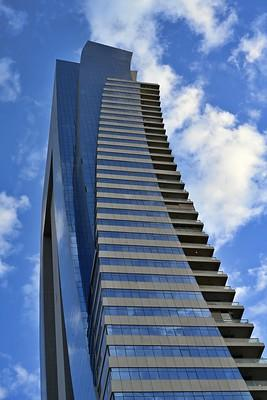building: (33, 38, 267, 399)
